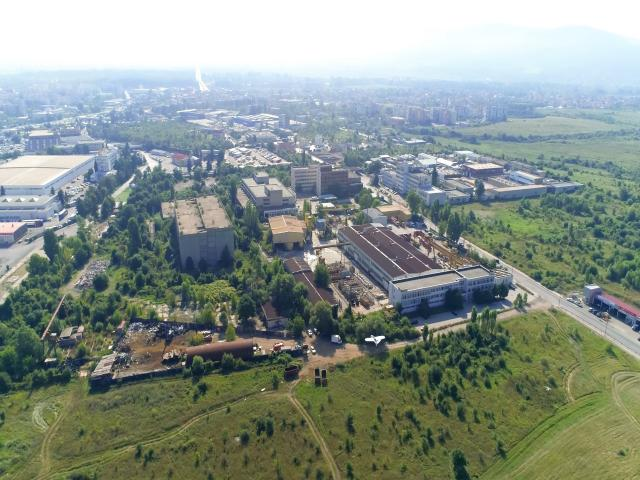plane: (364, 332, 386, 346)
